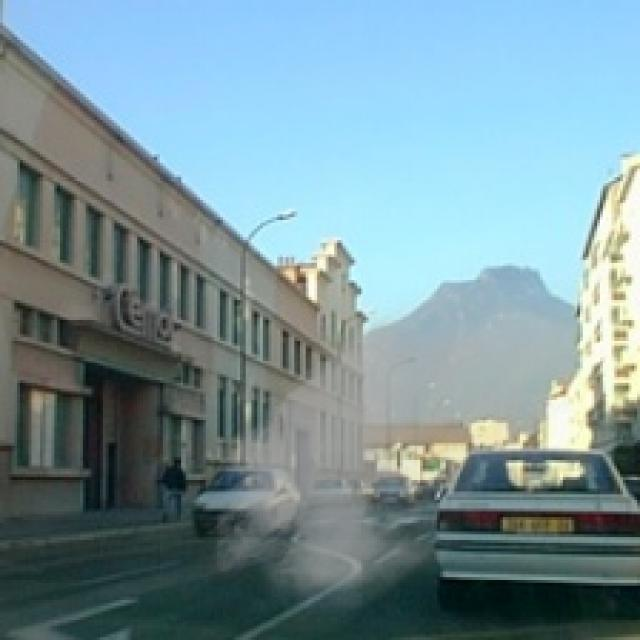Smoke: (200, 280, 574, 629)
